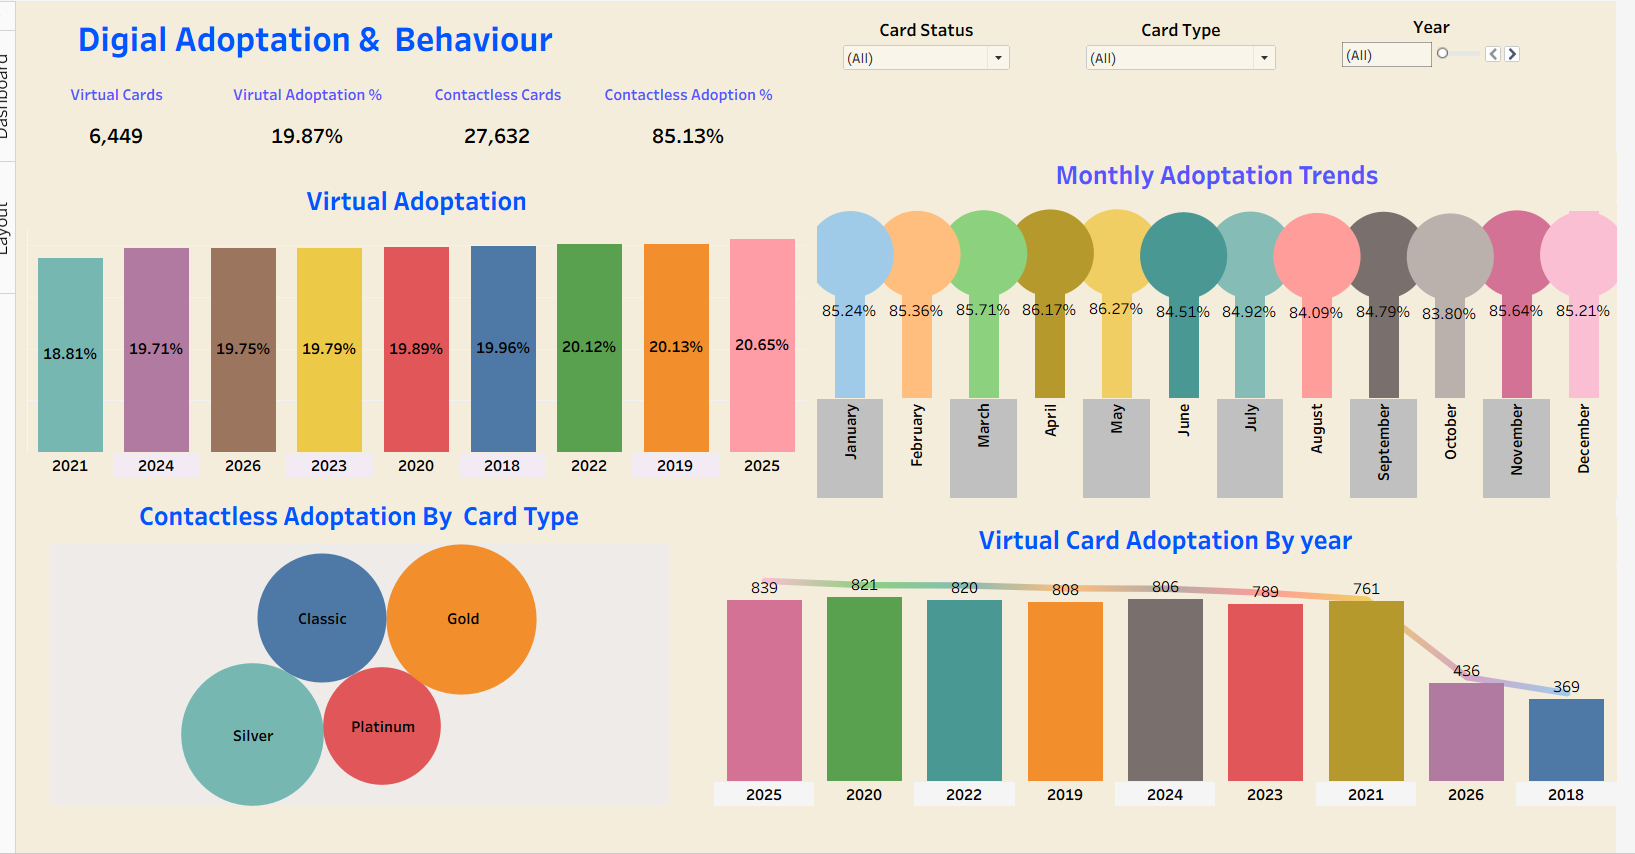

The page's visual inventory and layout, read from the dashboard file:
{"tool":"tableau","page":{"name":"Digital Adoptation & Behaviour ","canvas":[1600,900],"ordinal":1},"visuals":[{"type":"filter","title":"Virtual Adoptation","param":"[federated.1vz7fz40ilj1zt1456ini1l9mxkm].[tyr:Issue_Date:ok]","box":[1323,13,185,73]},{"type":"text","box":[58,14,530,46]},{"type":"filter","title":"Virtual Adoptation","param":"[federated.1vz7fz40ilj1zt1456ini1l9mxkm].[none:Card_Status:nk]","box":[824,16,173,64]},{"type":"filter","title":"Virtual Adoptation","param":"[federated.1vz7fz40ilj1zt1456ini1l9mxkm].[none:Card_Type:nk]","box":[1067,16,196,63]},{"type":"worksheet","title":"KPI 2","mark":"Automatic","box":[5,65,763,108]},{"type":"worksheet","title":"Monthly Adoptation Trends","mark":"Bar","rows":["Calculation_1543197239439363","Calculation_1543197285998605"],"cols":["Expiry_Date"],"box":[801,152,800,345]},{"type":"worksheet","title":"Virtual Adoptation","mark":"Bar","rows":["Calculation_1543197285998605"],"cols":["Issue_Date"],"box":[11,178,779,298]},{"type":"worksheet","title":"Contactless Adoptation By  Card Type","mark":"Circle","box":[33,493,620,312]},{"type":"worksheet","title":"Virtual Card Adoptation By year","mark":"Bar","rows":["Calculation_1543197285613580","Calculation_1543197289254931"],"cols":["Issue_Date"],"box":[698,517,903,288]}]}

Visuals, with their boxes on the page's 1600x900 design canvas (x1, y1, x2, y2). These are canvas units, not pixel positions in the 1635x854 screenshot, which may show the page scaled, cropped or inside an application window:
"Virtual Adoptation" filter: BBox(1323, 13, 1508, 86)
text: BBox(58, 14, 588, 60)
"Virtual Adoptation" filter: BBox(824, 16, 997, 80)
"Virtual Adoptation" filter: BBox(1067, 16, 1263, 79)
"KPI 2" worksheet: BBox(5, 65, 768, 173)
"Monthly Adoptation Trends" worksheet (Bar marks): BBox(801, 152, 1601, 497)
"Virtual Adoptation" worksheet (Bar marks): BBox(11, 178, 790, 476)
"Contactless Adoptation By  Card Type" worksheet (Circle marks): BBox(33, 493, 653, 805)
"Virtual Card Adoptation By year" worksheet (Bar marks): BBox(698, 517, 1601, 805)
